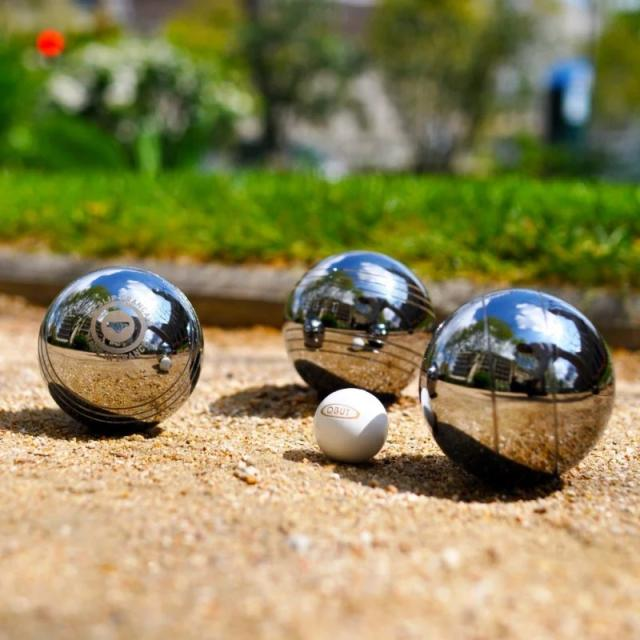hatball: (310, 386, 399, 478)
petanque: (415, 283, 622, 496), (31, 259, 217, 442), (282, 252, 441, 407)
